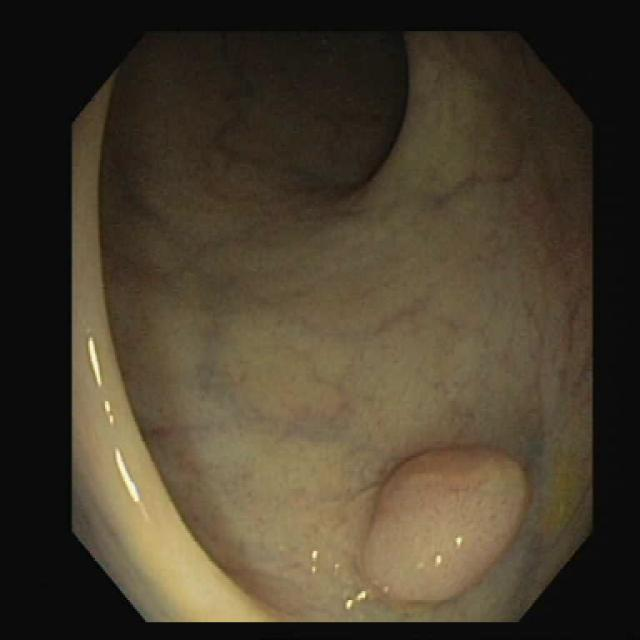tumor: (360, 447, 530, 602)
